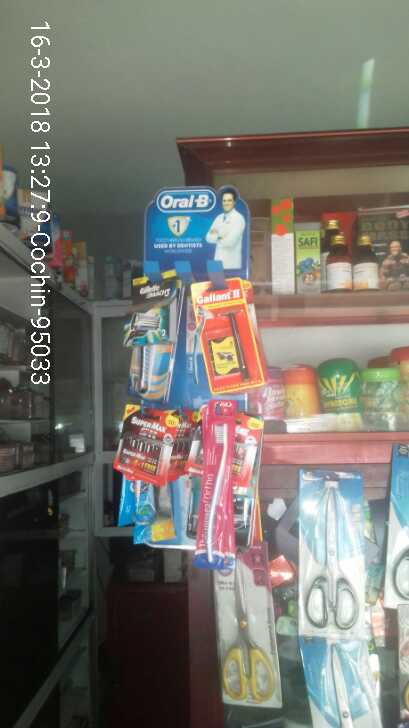gillette: (119, 274, 172, 353)
